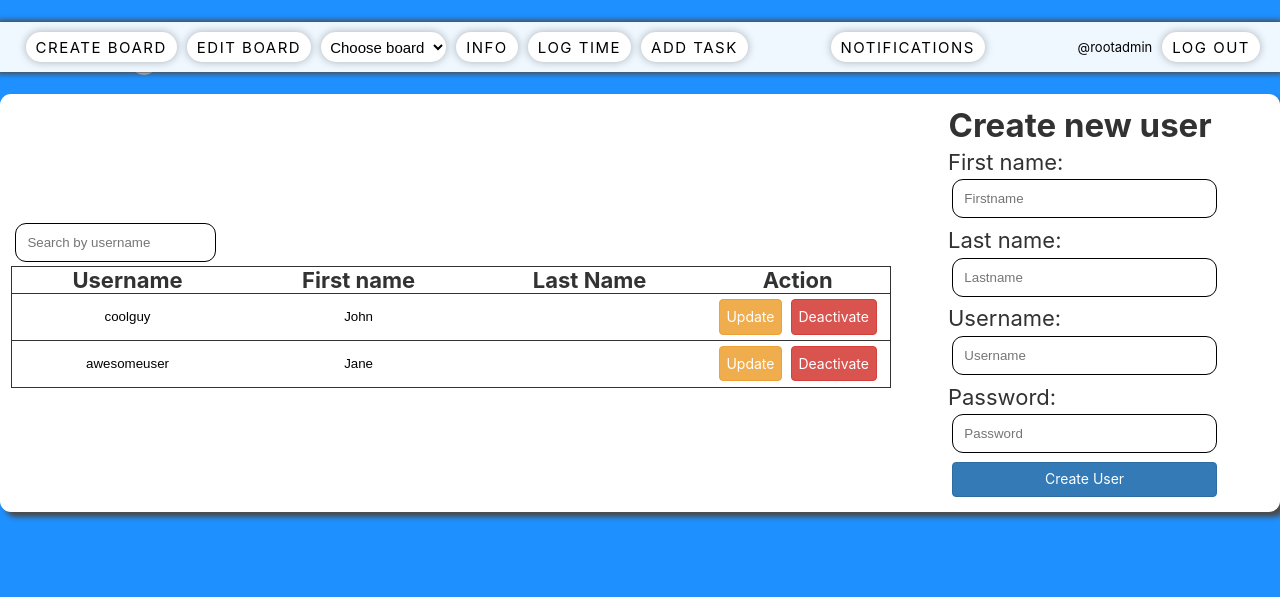
Test: AdminPage › Try to create user when server is down
Type "awesomeuser" into the field with test id "usernameInput" at (1084, 355), box [952, 336, 1217, 375]
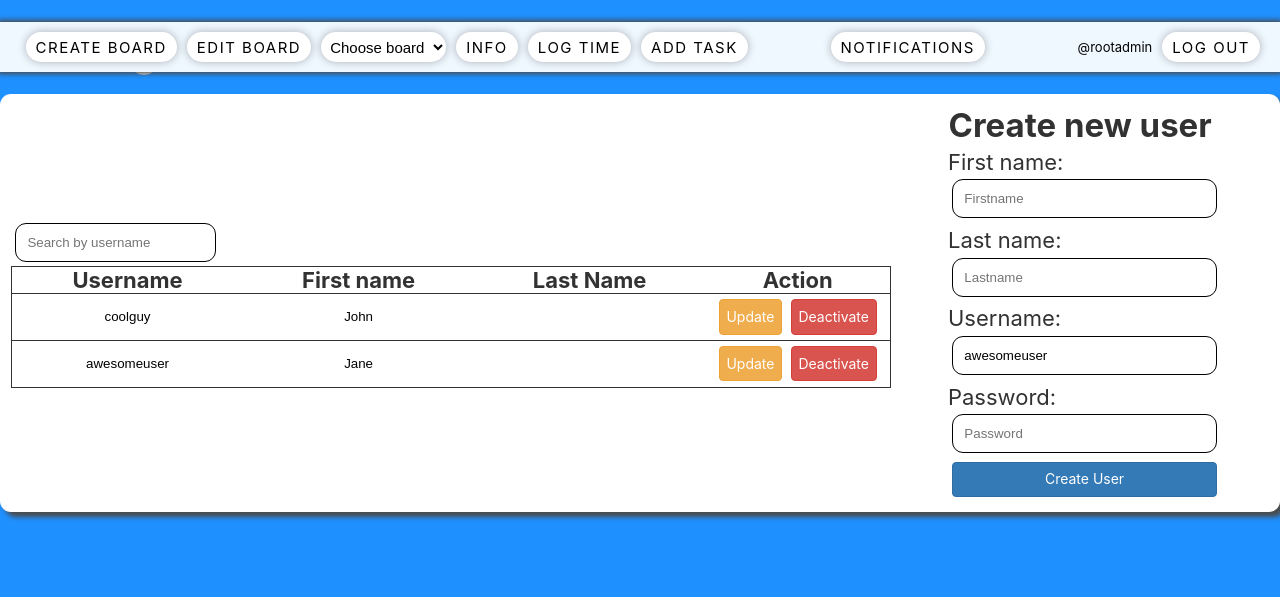
Type "Jane" into the field with test id "FirstInput" at (1084, 199), box [952, 179, 1217, 218]
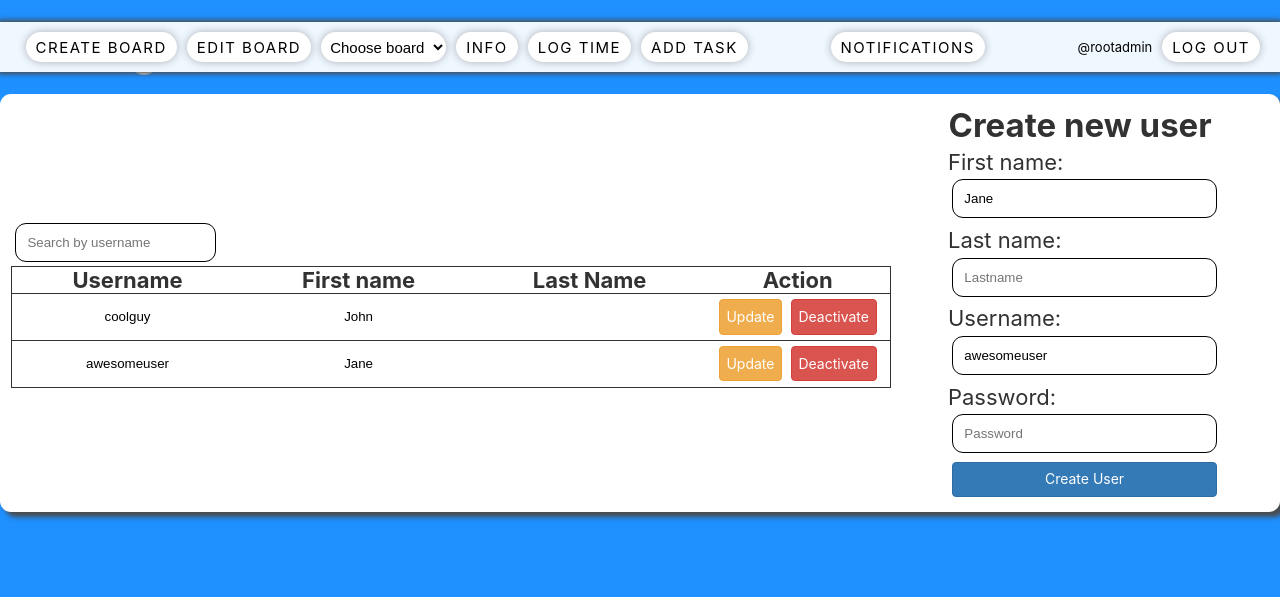
Type "Smith" into the field with test id "LastInput" at (1084, 277), box [952, 258, 1217, 296]
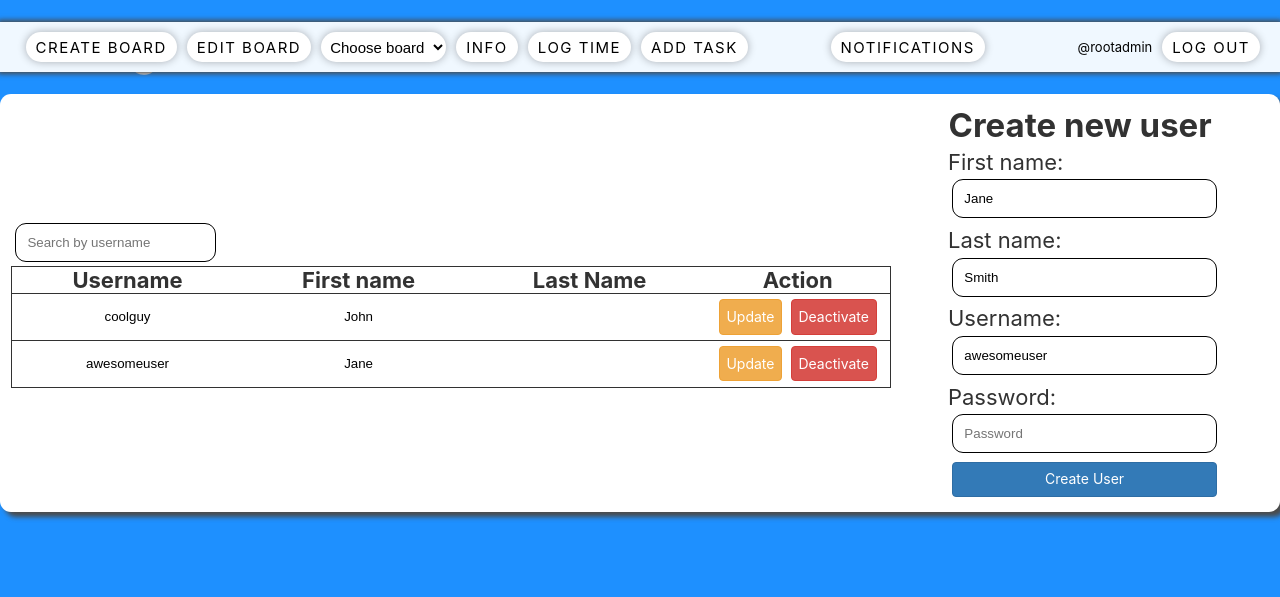
Type "12345678" into the field with test id "PasswordInput" at (1084, 433), box [952, 414, 1217, 453]
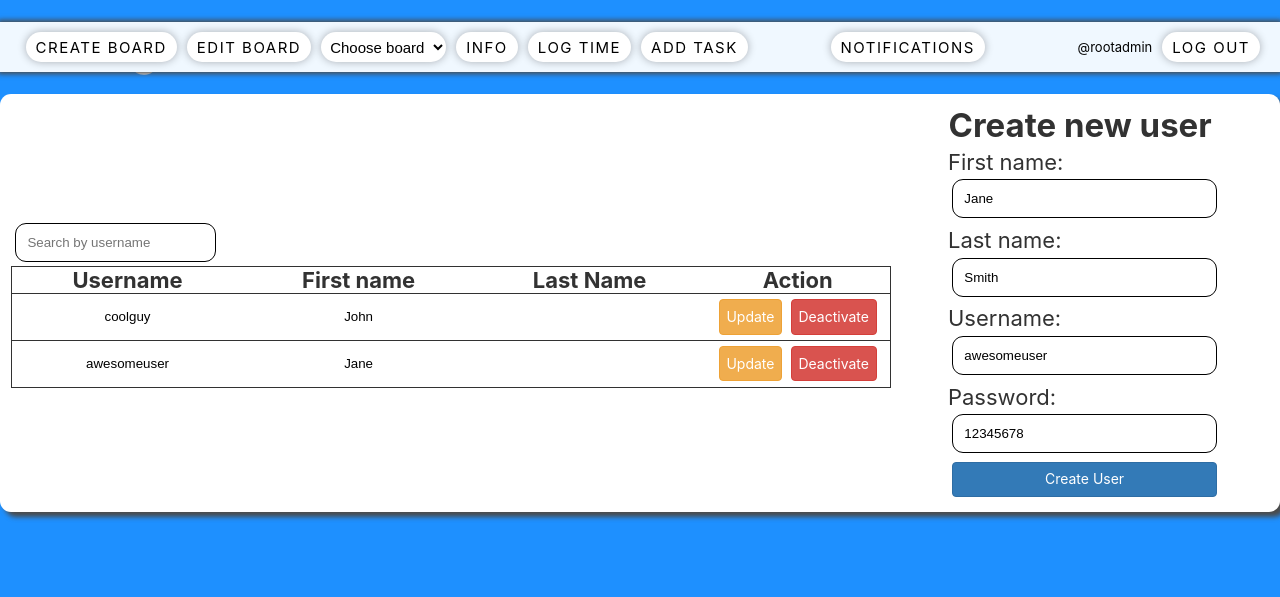
Click the button "Create User" at (1084, 479), box [952, 462, 1217, 497]
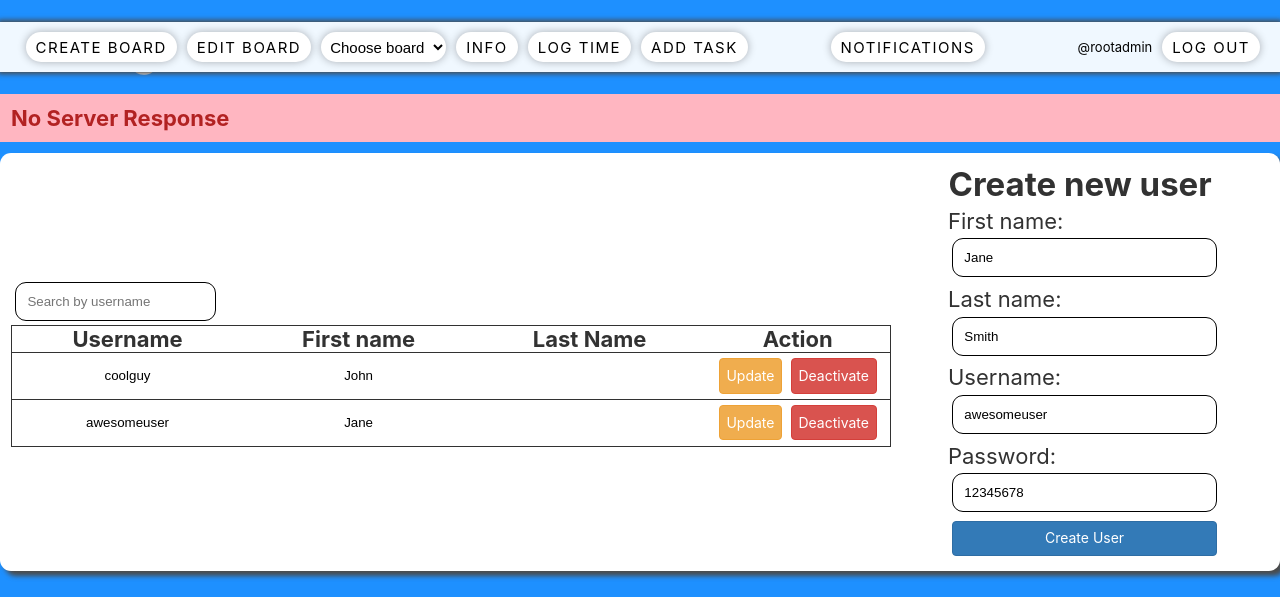
expect the text "No Server Response" is shown: met, box [0, 94, 1279, 142]
